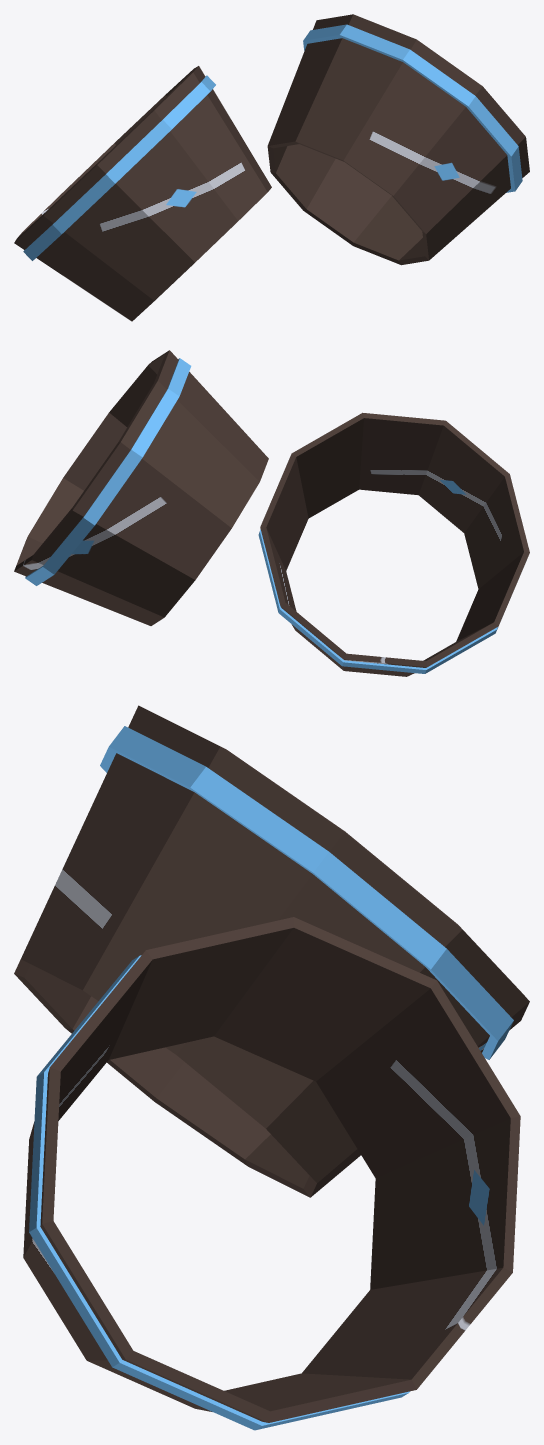
The model's file is conductor_cuffs_1.glb.
3 views of the same model, one above another, from view 1: azimuth 30°, elevation 25°; view 2: azimuth 150°, elevation 25°; view 3: azimuth 270°, elevation 25° (orthographic). The views are drawn at different scales.
Visible parts, largest first — view 1: display_conductor_cuffs_wear_conductor_cuffs_R, display_conductor_cuffs_wear_conductor_cuffs_L; view 2: display_conductor_cuffs_wear_conductor_cuffs_R, display_conductor_cuffs_wear_conductor_cuffs_L; view 3: display_conductor_cuffs_wear_conductor_cuffs_R, display_conductor_cuffs_wear_conductor_cuffs_L.
Part boxes in pixels (<box>): display_conductor_cuffs_wear_conductor_cuffs_R: <box>267,14,529,265</box>; display_conductor_cuffs_wear_conductor_cuffs_L: <box>14,66,271,321</box>; display_conductor_cuffs_wear_conductor_cuffs_R: <box>14,350,268,625</box>; display_conductor_cuffs_wear_conductor_cuffs_L: <box>258,412,529,676</box>; display_conductor_cuffs_wear_conductor_cuffs_R: <box>23,917,520,1430</box>; display_conductor_cuffs_wear_conductor_cuffs_L: <box>14,705,529,1197</box>.
Size of the model in its own units: 0.9 by 0.4374 by 0.4354.
Materials: 3 (2 with a texture image).
